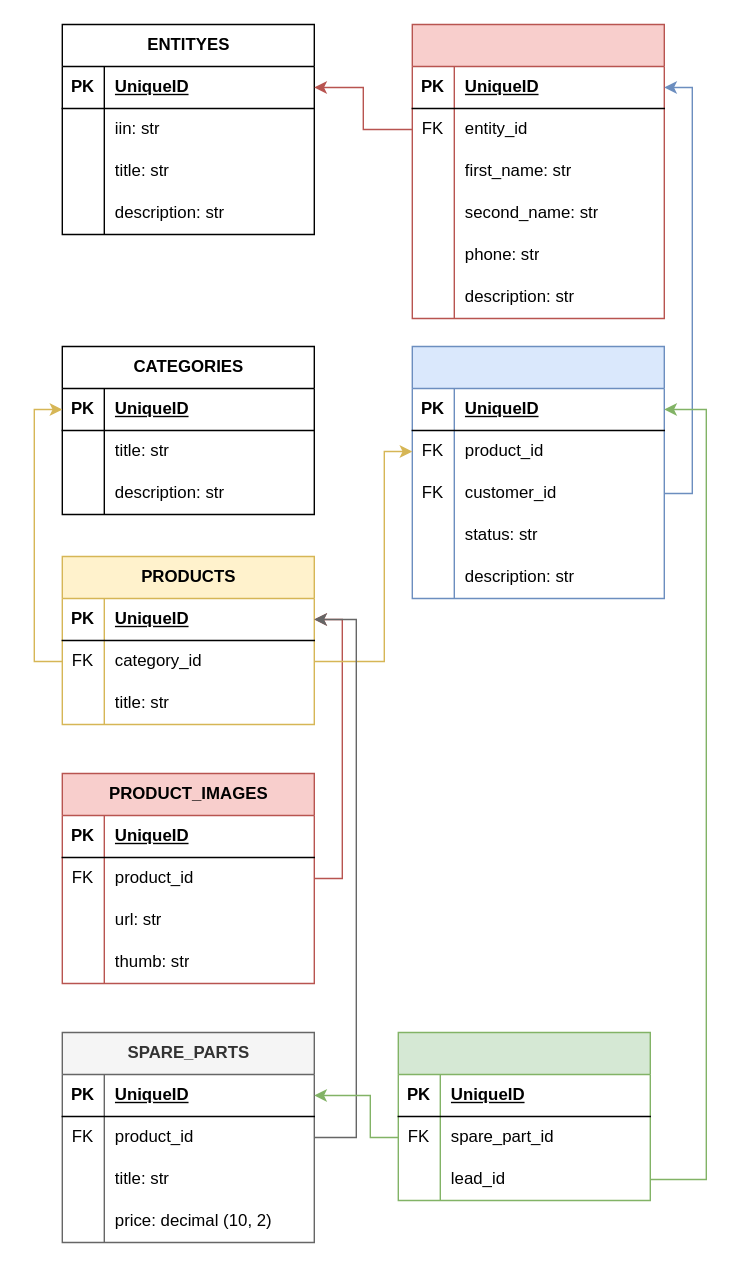
Image size: 742x1267. Some labels were removed from this diagram. Each missing label, with the box of its shape:
CUSTOMERS: (411, 23, 664, 318)
LEADS: (411, 345, 664, 598)
SPARE_PART_LEADS: (397, 1031, 650, 1200)
